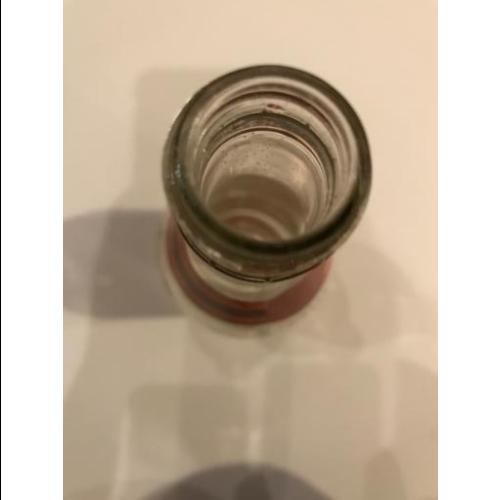glass: (153, 67, 371, 329)
